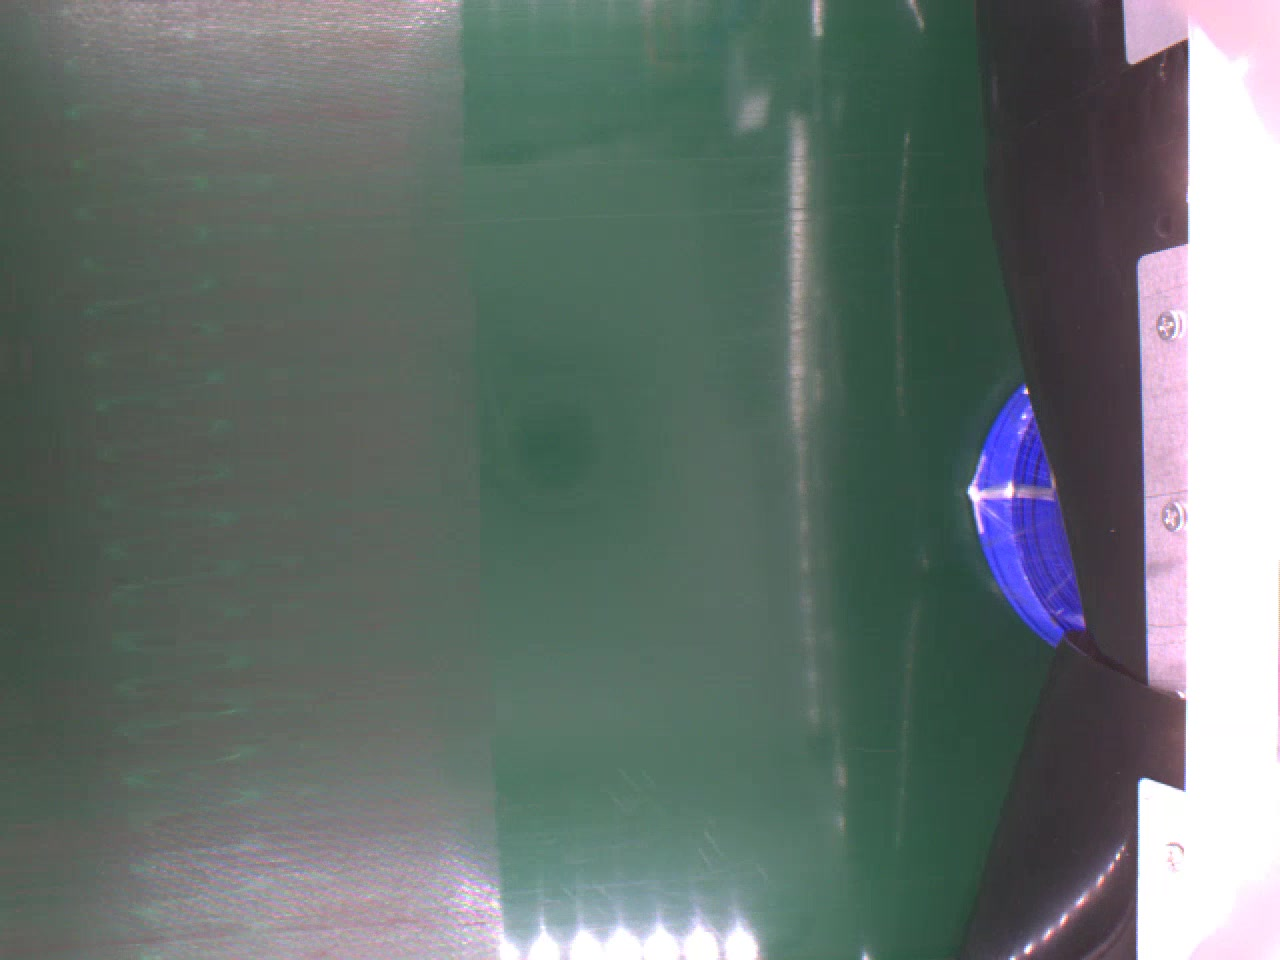blue: (965, 380, 1077, 645)
